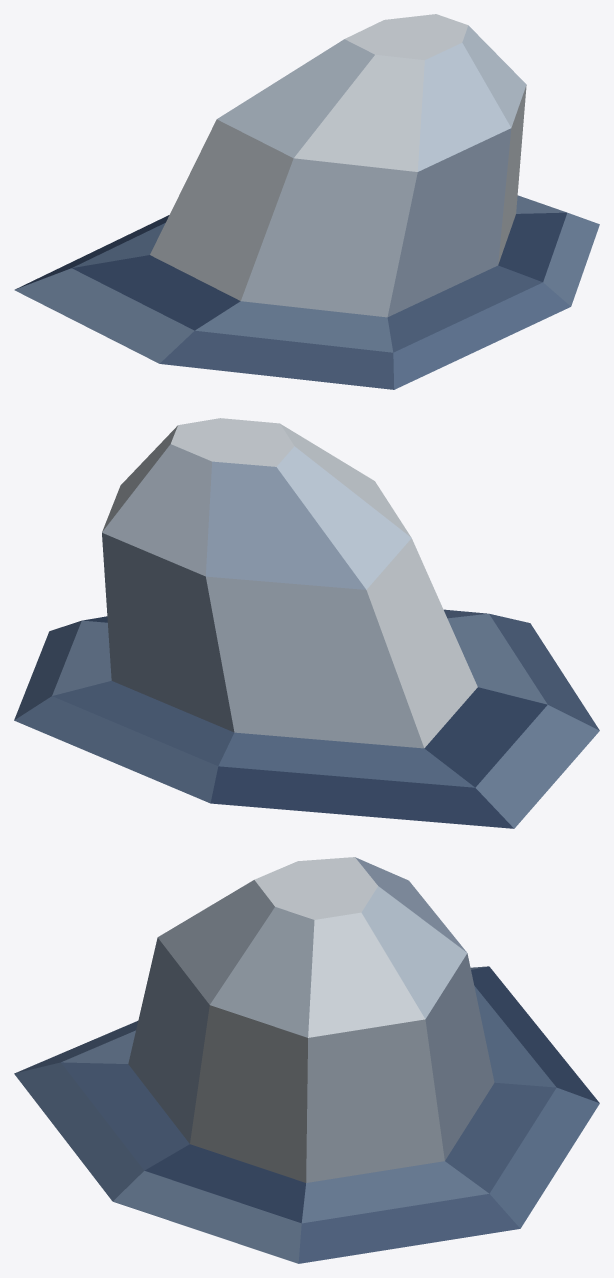
Rendered from wind-carved-bank.glb.
The picture shows the model from 3 angles, top to bottom: view 1: azimuth 30°, elevation 25°; view 2: azimuth 150°, elevation 25°; view 3: azimuth 270°, elevation 25°; orthographic projection. The views are drawn at different scales.
Visible parts, largest first — view 1: wind-carved-bank; view 2: wind-carved-bank; view 3: wind-carved-bank.
Part boxes in pixels (bbox=[...]): wind-carved-bank: bbox=[14, 14, 599, 389]; wind-carved-bank: bbox=[14, 418, 599, 828]; wind-carved-bank: bbox=[14, 857, 599, 1263].
Size of the model in its own units: 3.25 by 1.42 by 2.7.
